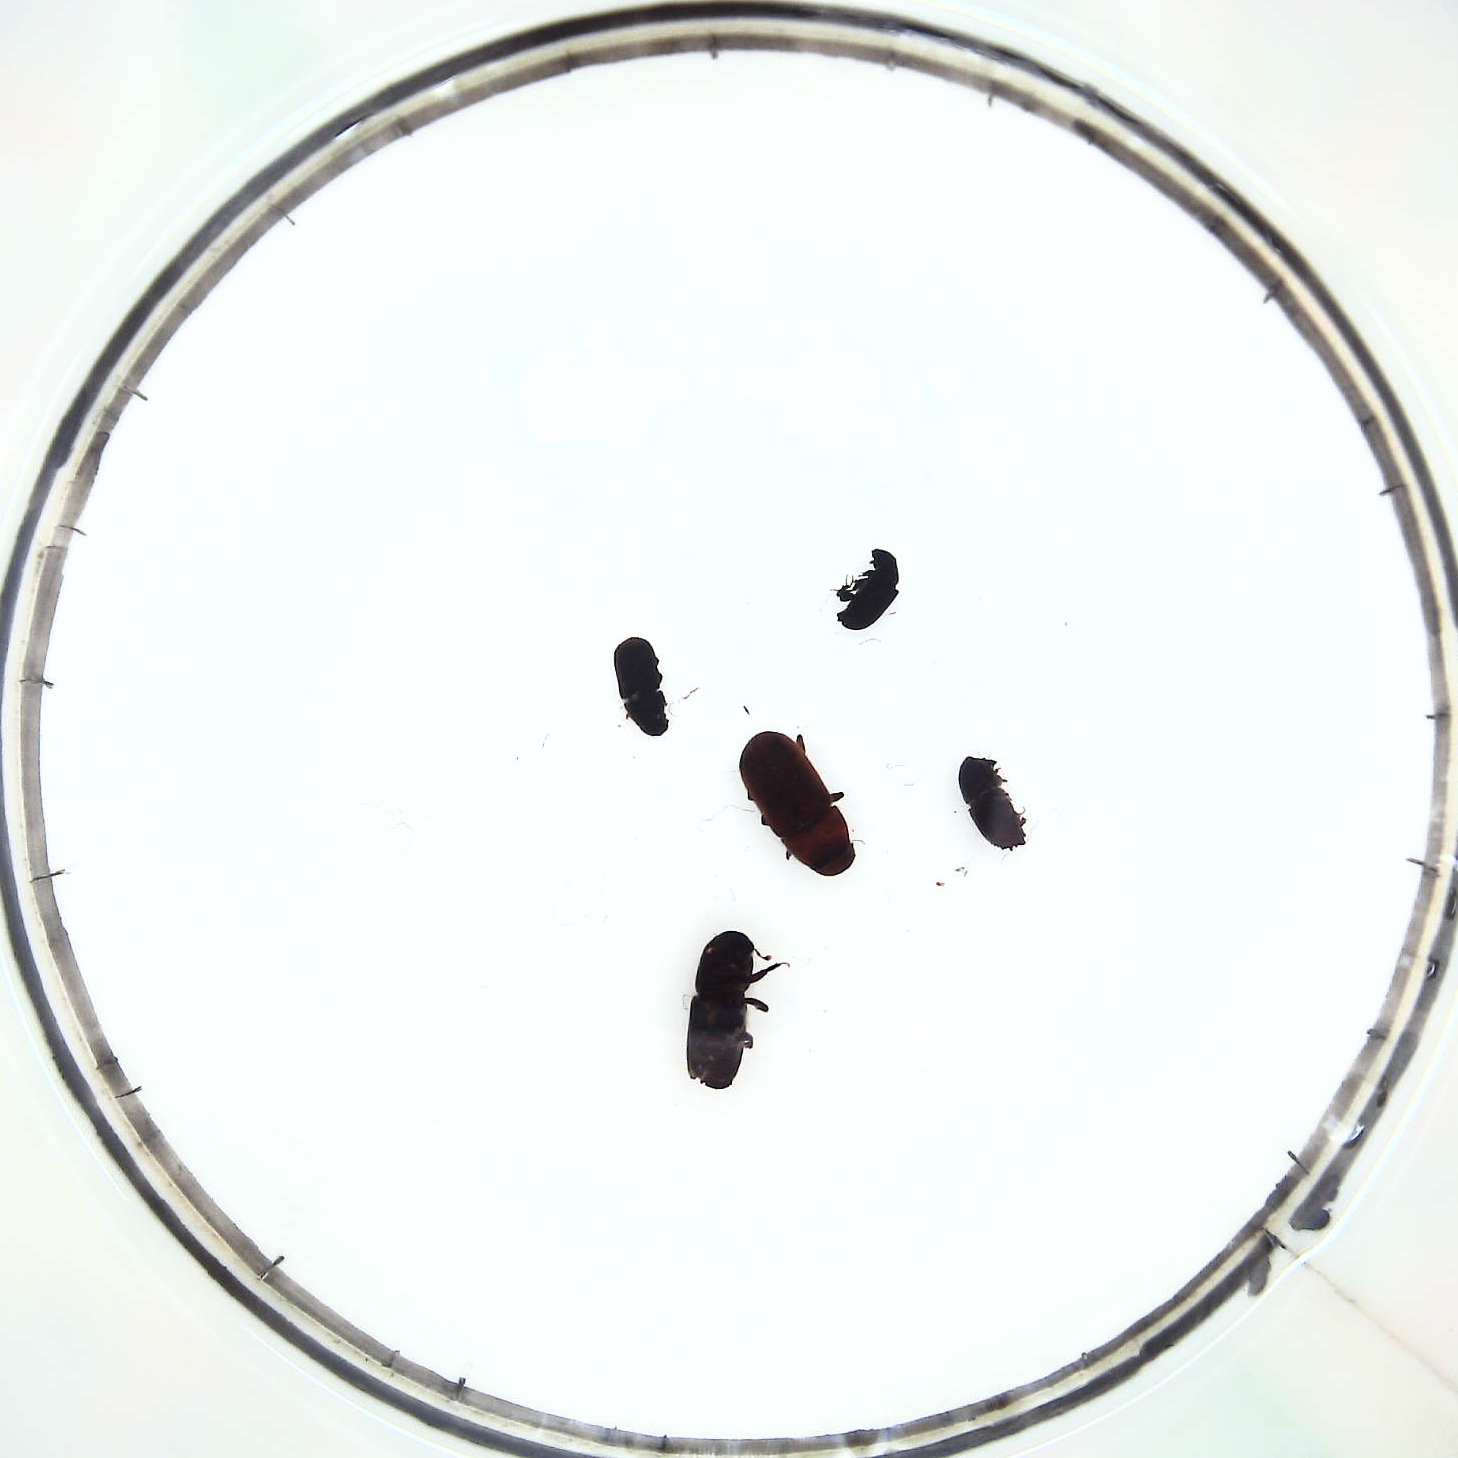Boerner: (690, 928, 758, 1091)
Leconte: (742, 728, 859, 876)
Linnaeus: (952, 754, 1029, 855)
armandi: (612, 636, 672, 736)
coleoptera: (836, 545, 901, 632)
